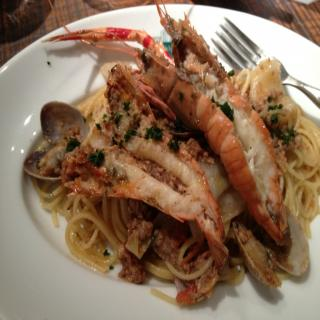Pasta: (31, 58, 320, 310)
